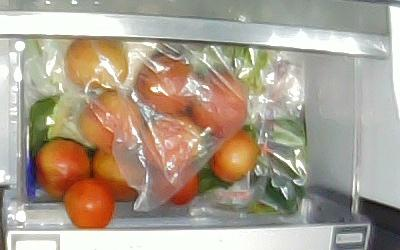prune: (35, 139, 92, 197), (64, 178, 113, 229)
prune_vinyl: (79, 92, 146, 152), (136, 56, 201, 116), (86, 144, 153, 199), (192, 77, 247, 138), (144, 115, 202, 170), (65, 42, 130, 90), (210, 132, 259, 182), (149, 158, 199, 205)
